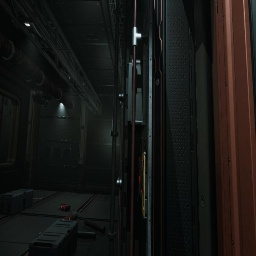EmergencyPhone ,: (137, 137, 147, 220)
FireAlarm ,: (138, 156, 142, 194)
FireExtinguisher ]: (58, 204, 70, 211)
NitrogenTank ,: (62, 210, 78, 221), (24, 252, 29, 256)
